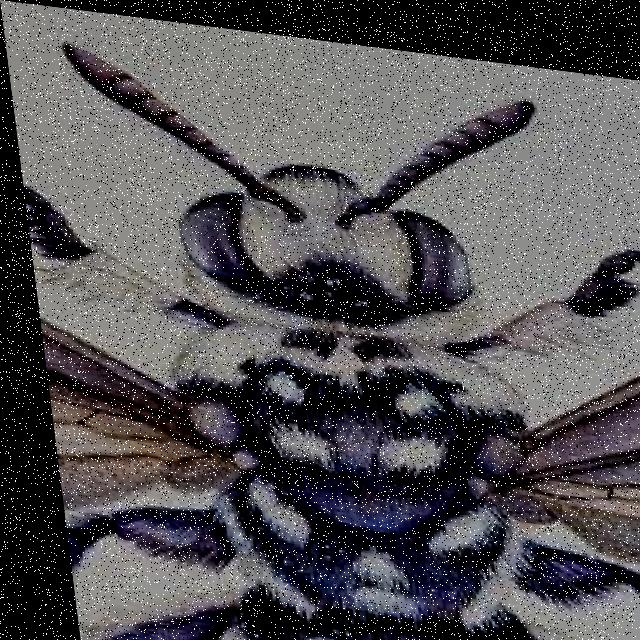Thyreus: (63, 8, 640, 640)
